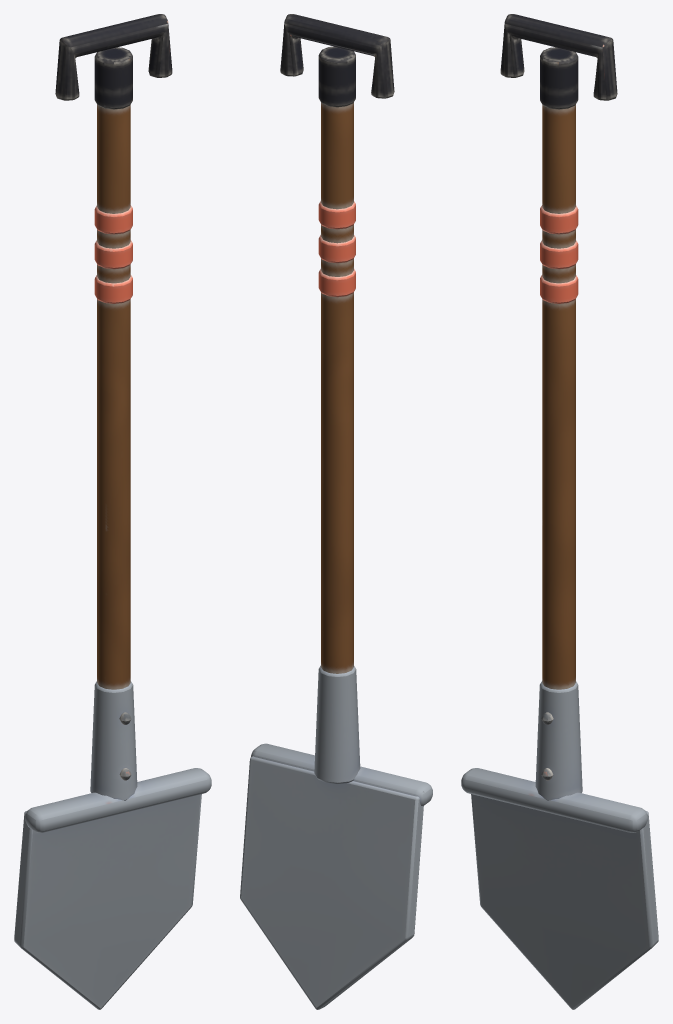
The model's file is shovel.glb.
3 renders of one model, left to right at view 1: azimuth 30°, elevation 25°; view 2: azimuth 150°, elevation 25°; view 3: azimuth 330°, elevation 25°, orthographic. The views are drawn at different scales.
Visible parts, largest first — view 1: SM_Shovel; view 2: SM_Shovel; view 3: SM_Shovel.
Part boxes in pixels (left/top/right/bottom): SM_Shovel: left=14, top=14, right=211, bottom=1009; SM_Shovel: left=240, top=14, right=432, bottom=1009; SM_Shovel: left=461, top=14, right=658, bottom=1009.
Size of the model in its own units: 0.27 by 1.43 by 0.0941.
2 materials, 2 textured.
